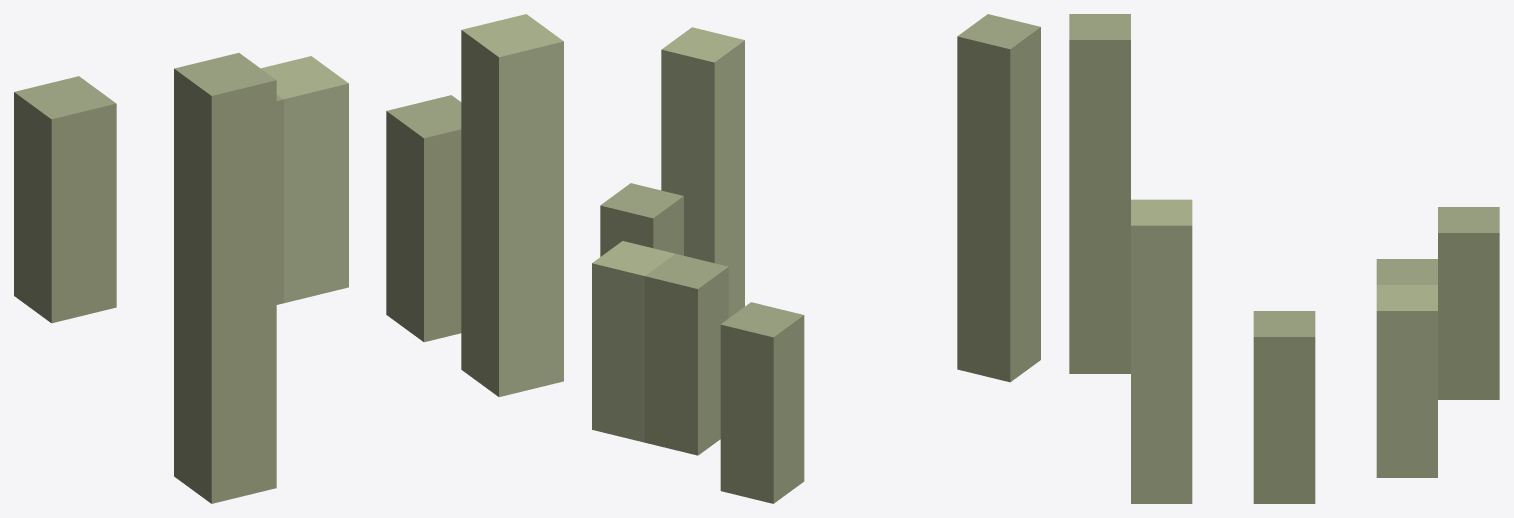
File: tomillo_02.glb
3 renders of one model, left to right at view 1: azimuth 30°, elevation 25°; view 2: azimuth 150°, elevation 25°; view 3: azimuth 270°, elevation 25°, orthographic. The views are drawn at different scales.
Visible parts, largest first — view 1: tomillo_02; view 2: tomillo_02; view 3: tomillo_02.
Part boxes in pixels (left/top/right/bottom): tomillo_02: left=14, top=14, right=563, bottom=503; tomillo_02: left=592, top=14, right=1040, bottom=503; tomillo_02: left=1069, top=14, right=1499, bottom=503.
Bounding box in the file's own units: 0.6 × 0.6 × 0.7.
